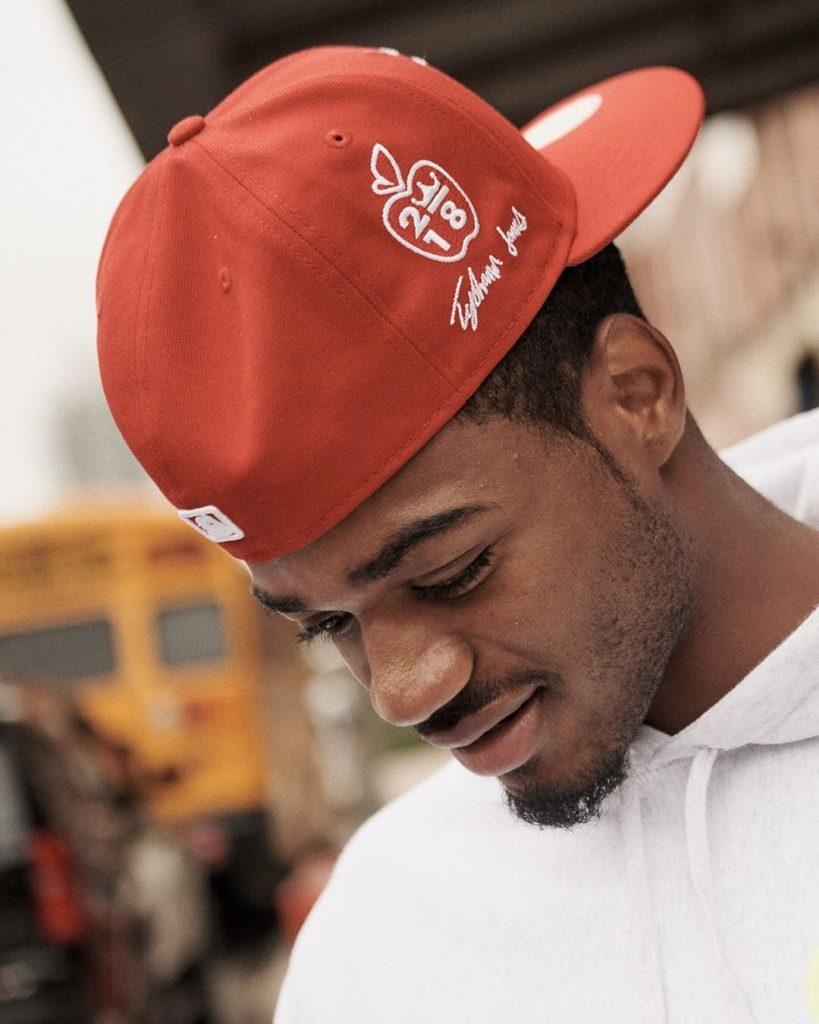cap: (60, 5, 713, 585)
